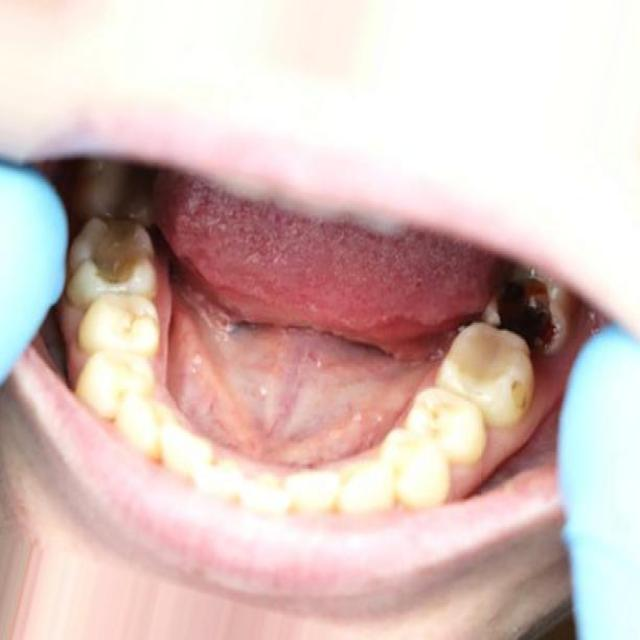caries: (76, 201, 161, 300), (515, 278, 570, 354), (494, 362, 531, 411)
